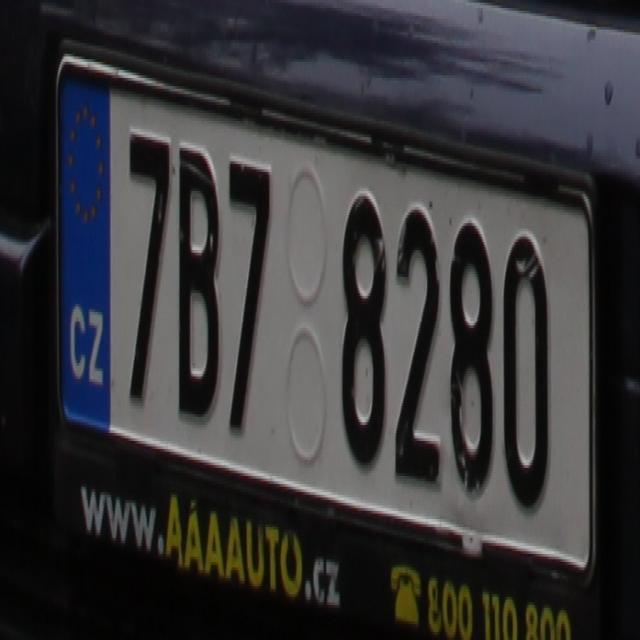0: (502, 223, 548, 506)
2: (389, 196, 441, 482)
7: (224, 148, 275, 446), (126, 121, 172, 406)
8: (449, 215, 494, 508), (340, 191, 384, 468)
B: (178, 132, 220, 417)
